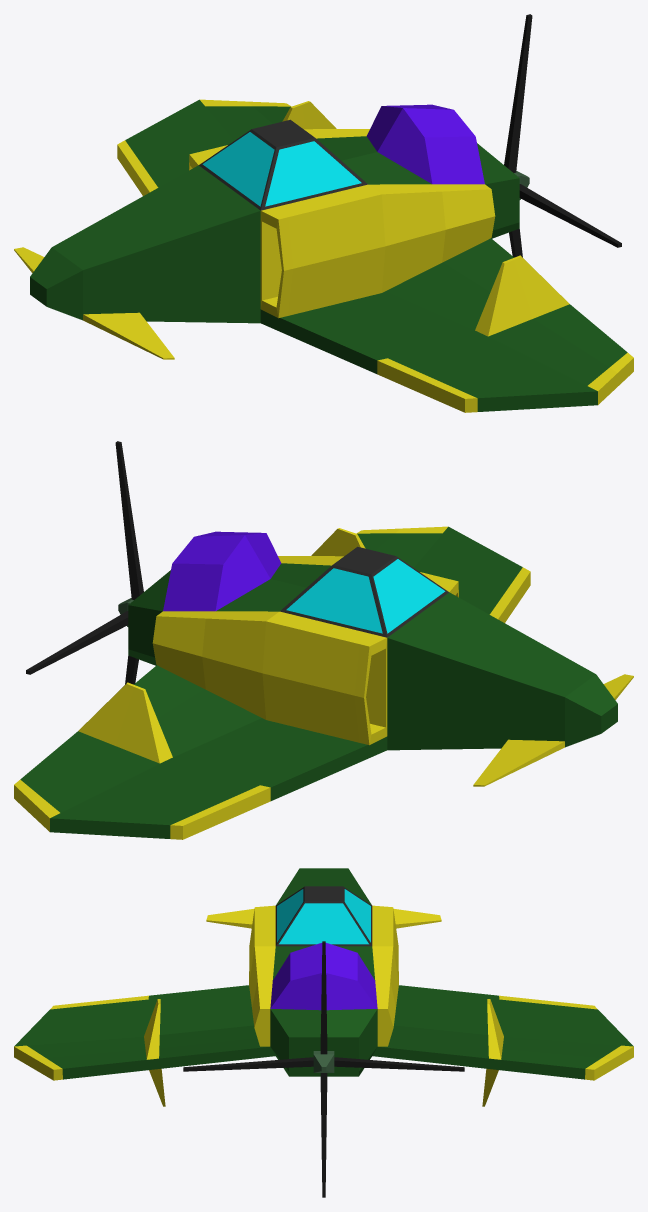
Rendered from Lightning.fbx.
3 renders of one model, top to bottom at view 1: azimuth 30°, elevation 25°; view 2: azimuth 150°, elevation 25°; view 3: azimuth 270°, elevation 25°, orthographic. The views are drawn at different scales.
Parts seen in each view (by area): view 1: Cube, Cube.001; view 2: Cube, Cube.001; view 3: Cube, Cube.001.
Part boxes in pixels (x1,y1,x2,y2): Cube: (14, 99, 633, 412); Cube.001: (504, 14, 621, 257); Cube: (14, 526, 633, 839); Cube.001: (26, 441, 143, 684); Cube: (14, 868, 633, 1106); Cube.001: (183, 941, 464, 1197).
Size of the model in its own units: 917 by 582 by 1283.
